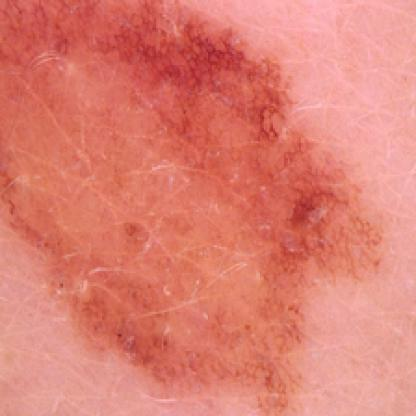benign: (2, 2, 394, 405)
